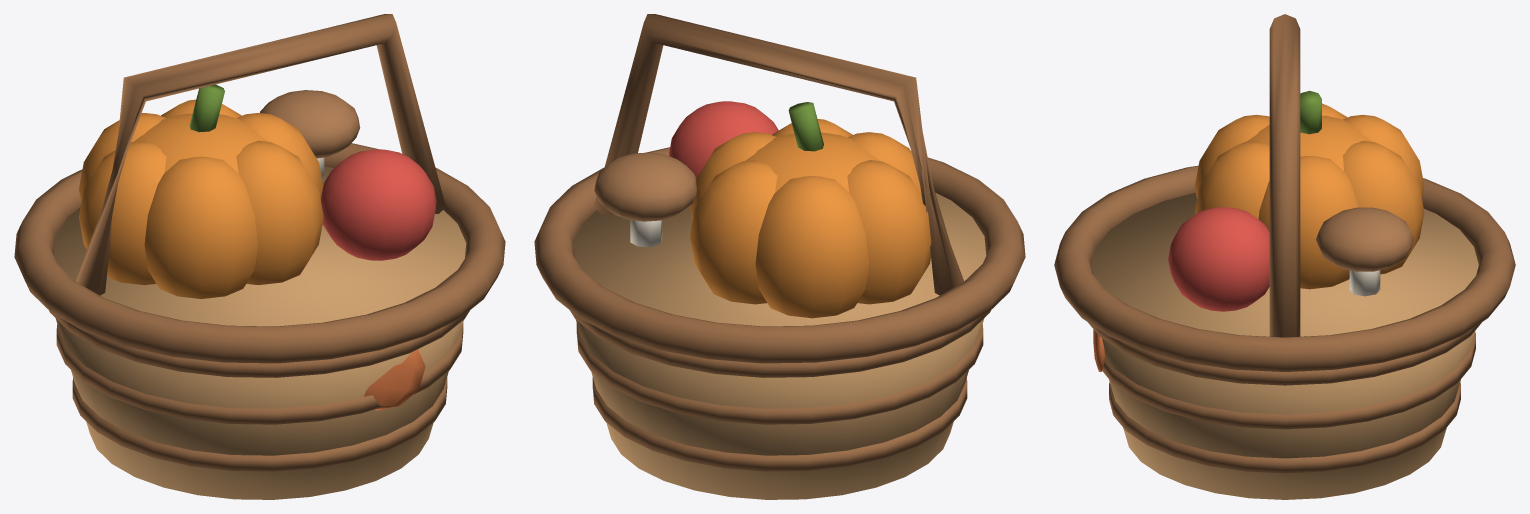
File: harvest-basket.glb
3 renders of one model, left to right at view 1: azimuth 30°, elevation 25°; view 2: azimuth 150°, elevation 25°; view 3: azimuth 270°, elevation 25°, orthographic. The views are drawn at different scales.
Parts seen in each view (by area): view 1: basket; view 2: basket; view 3: basket.
Part boxes in pixels (<box>): basket: <box>14,14,505,499</box>; basket: <box>534,14,1025,499</box>; basket: <box>1054,14,1515,499</box>.
Bounding box in the file's own units: 0.75 × 0.6413 × 0.75.
